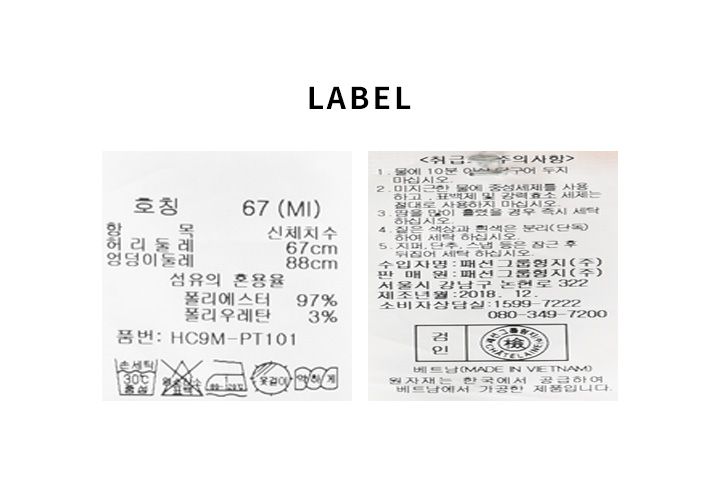KR_gentle_wring: (293, 364, 340, 393)
KR_hand_wash_30_neutral: (112, 355, 158, 397)
KR_hang_dry_in_shade: (249, 359, 293, 398)
KR_iron_low_temp_with_cloth: (204, 358, 249, 398)
KR_no_bleach: (160, 358, 203, 399)
